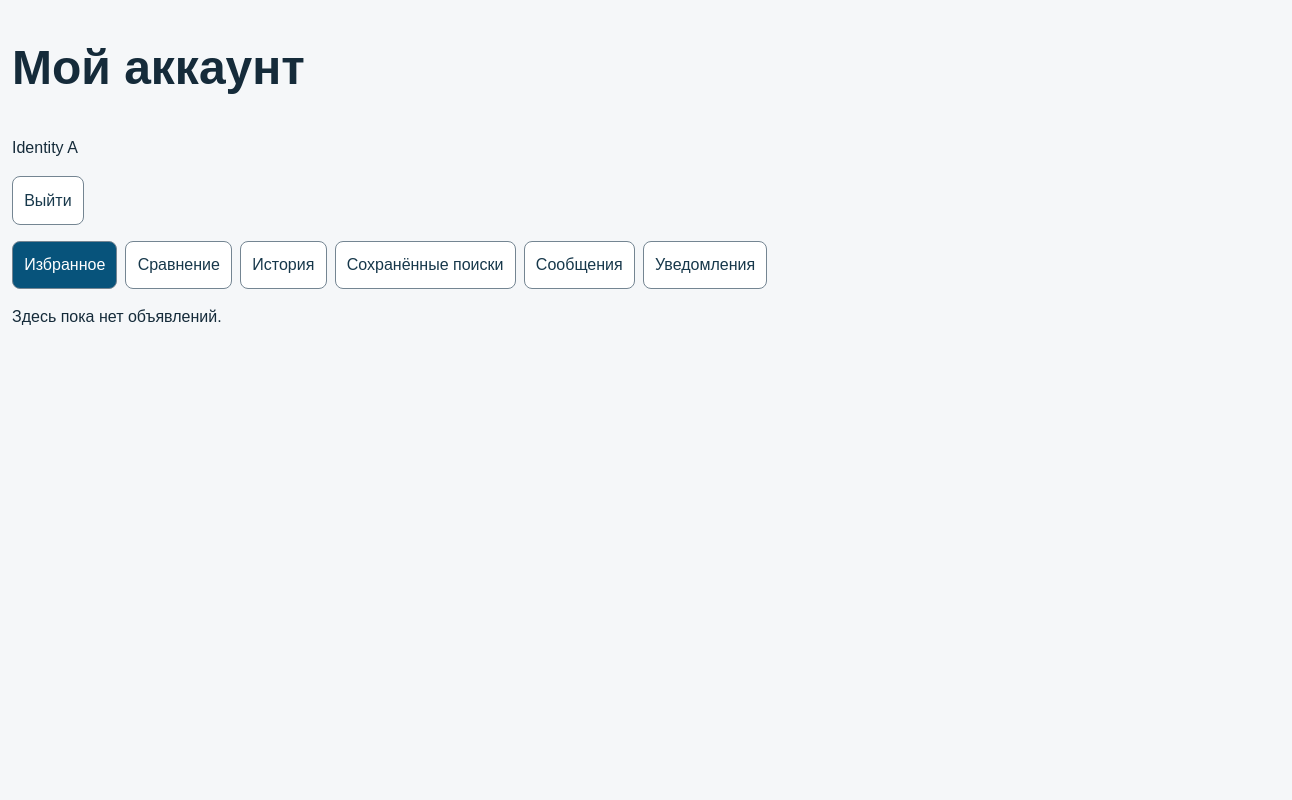
Test: Account isolates private state across identities
The width and height of the screenshot is (1292, 800).
Check: the text "Identity A" is shown, box [12,139,78,156]
Click the button "Сообщения" at x=579, y=265, box [524,241,635,289]
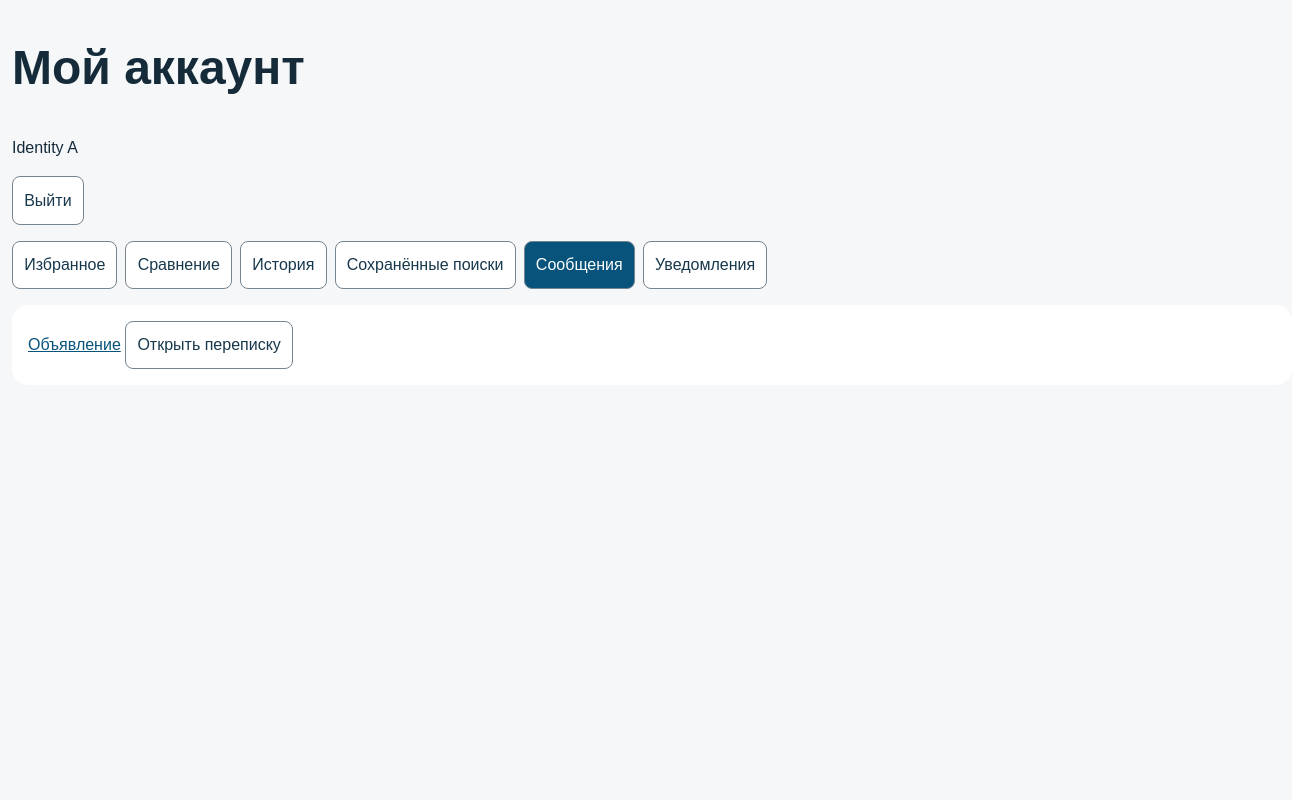
Click the button "Открыть переписку" at x=209, y=345, box [125,321,293,370]
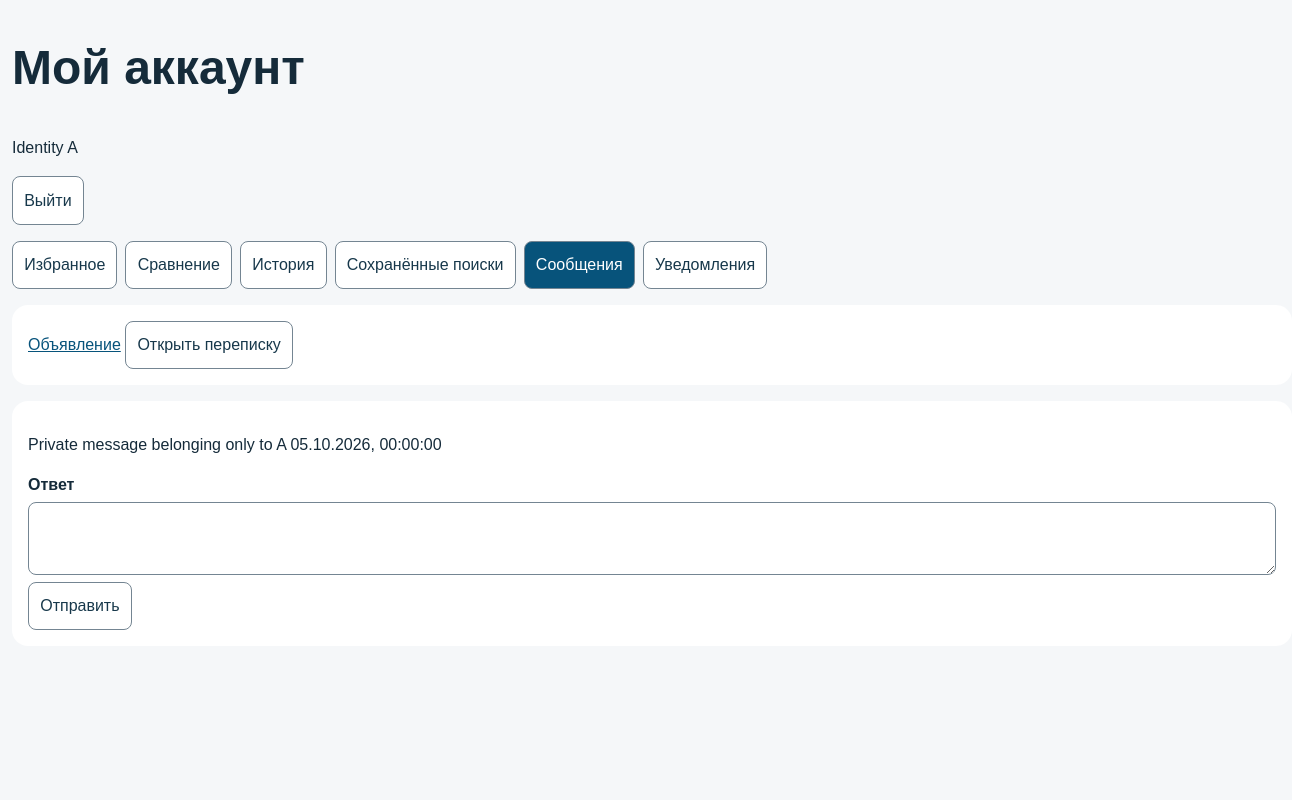
Check: the text "Private message belonging only to A" is shown, box [28,436,286,453]
Click the button "Выйти" at x=48, y=200, box [12,176,84,225]
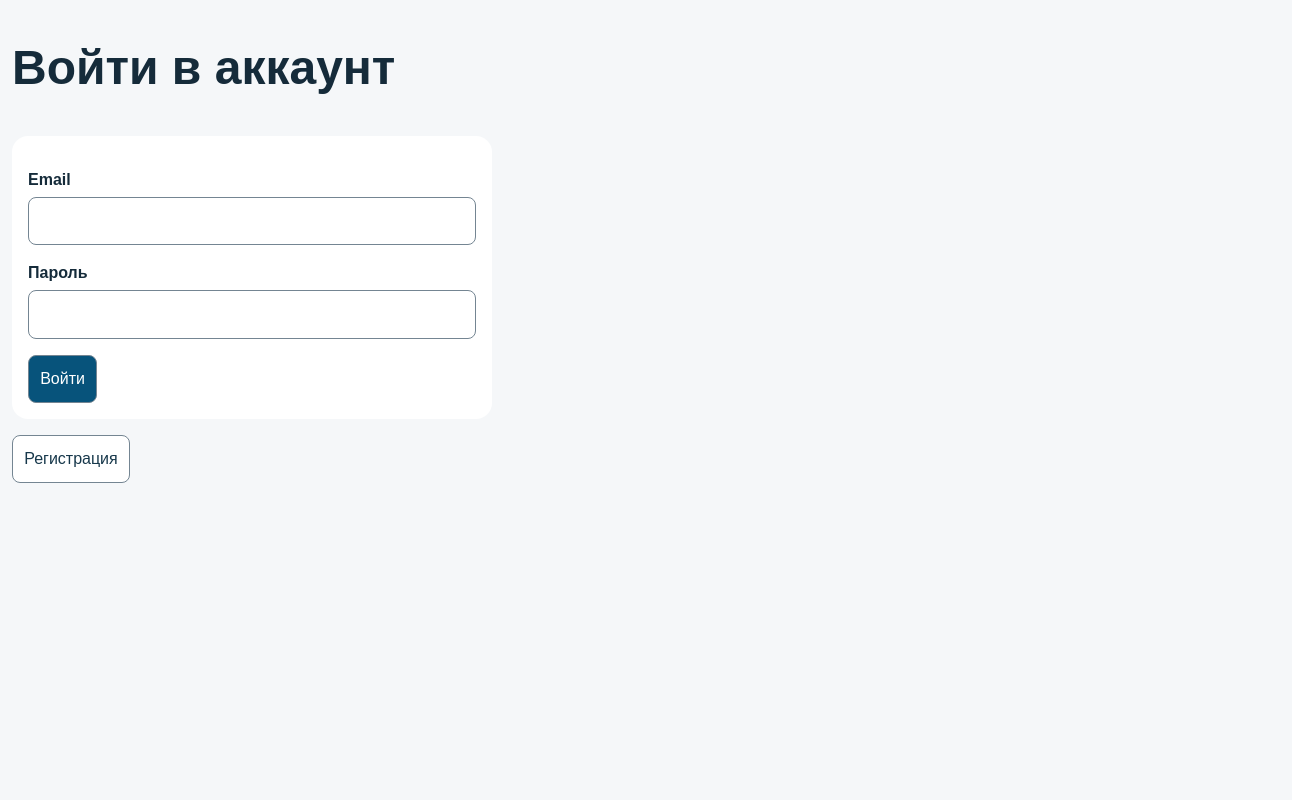
Check: the heading "Войти в аккаунт" is shown, box [12,41,395,94]
Type "b@example.test" into the field labelled "Email" at x=252, y=221, box [28,197,476,246]
Type "synthetic-long-password" into the password field labelled "Пароль" at x=252, y=314, box [28,290,476,339]
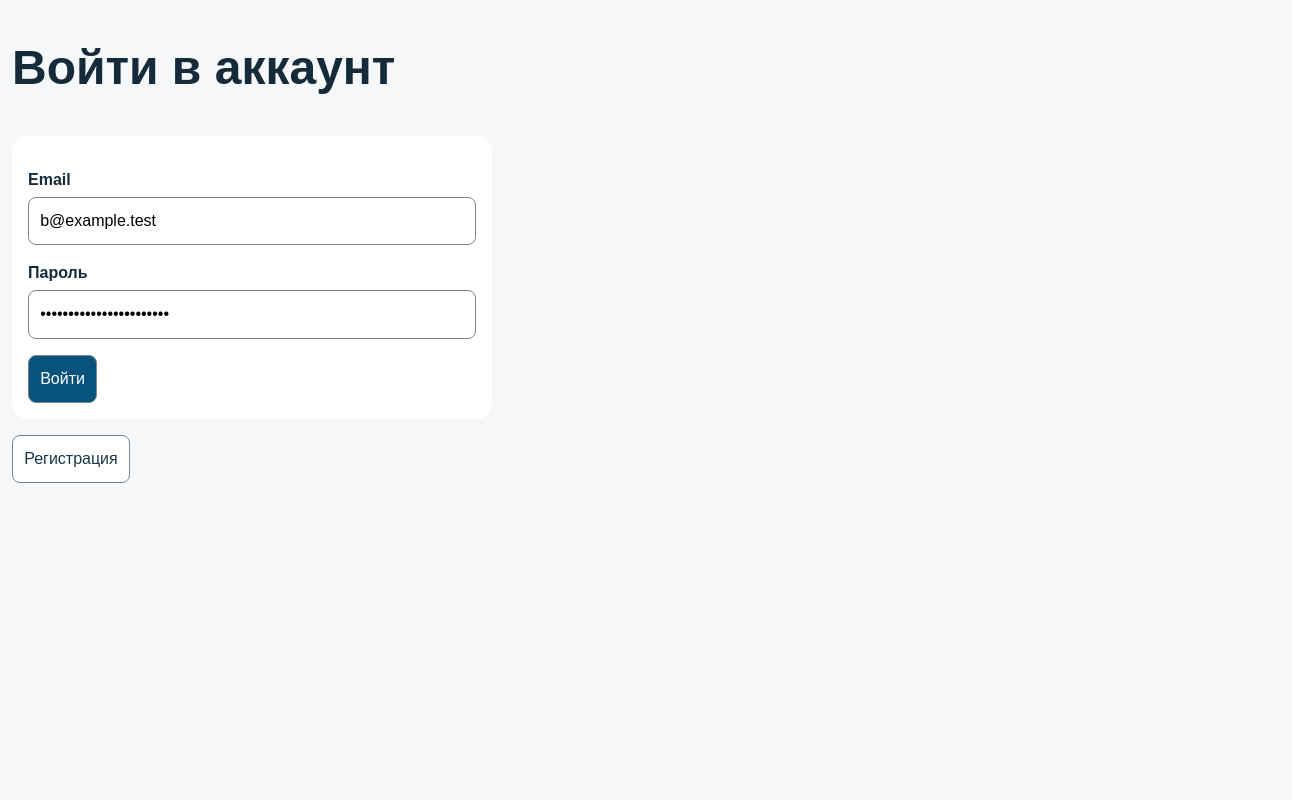
Click the button "Войти" at x=63, y=379, box [28,355,97,403]
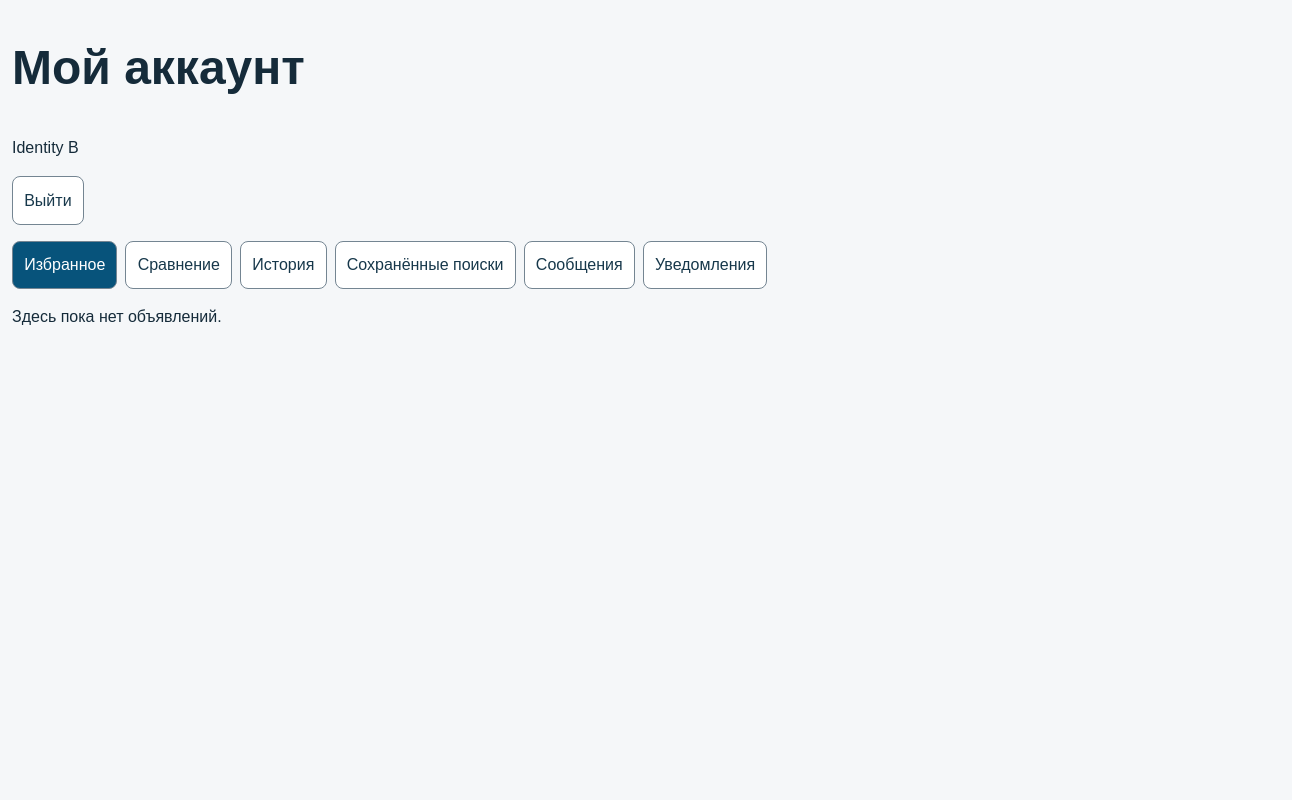
Check: the text "Identity B" is shown, box [12,139,79,156]
Click the button "Сообщения" at x=579, y=265, box [524,241,635,289]
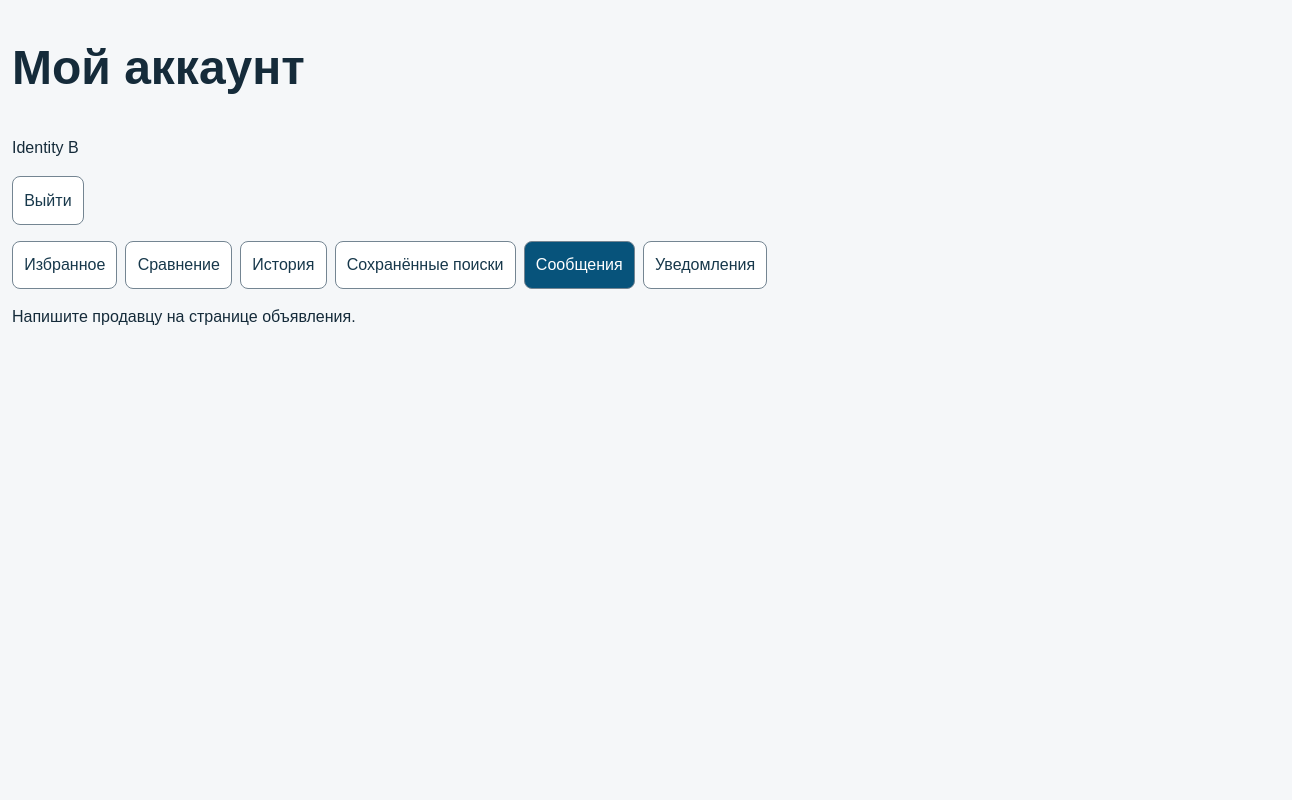
Check: the text "Private message belonging only to A" is not shown
Check: the text "Напишите продавцу на странице объявления." is shown, box [12,308,356,325]
